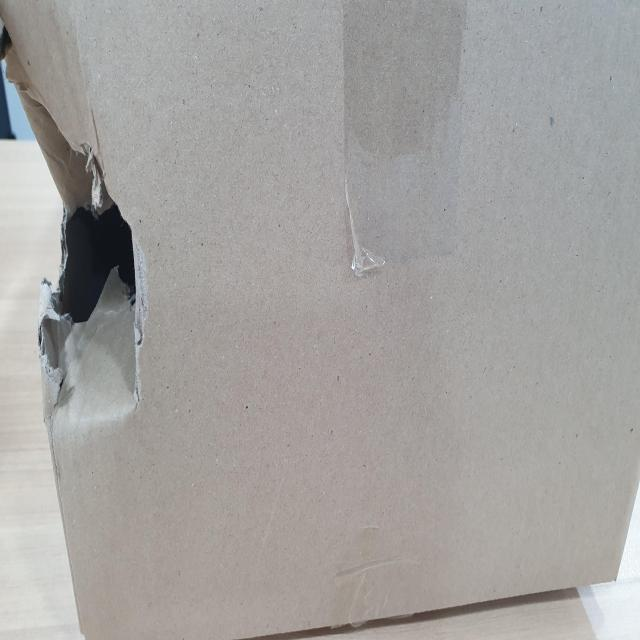damaged: (1, 0, 148, 422)
